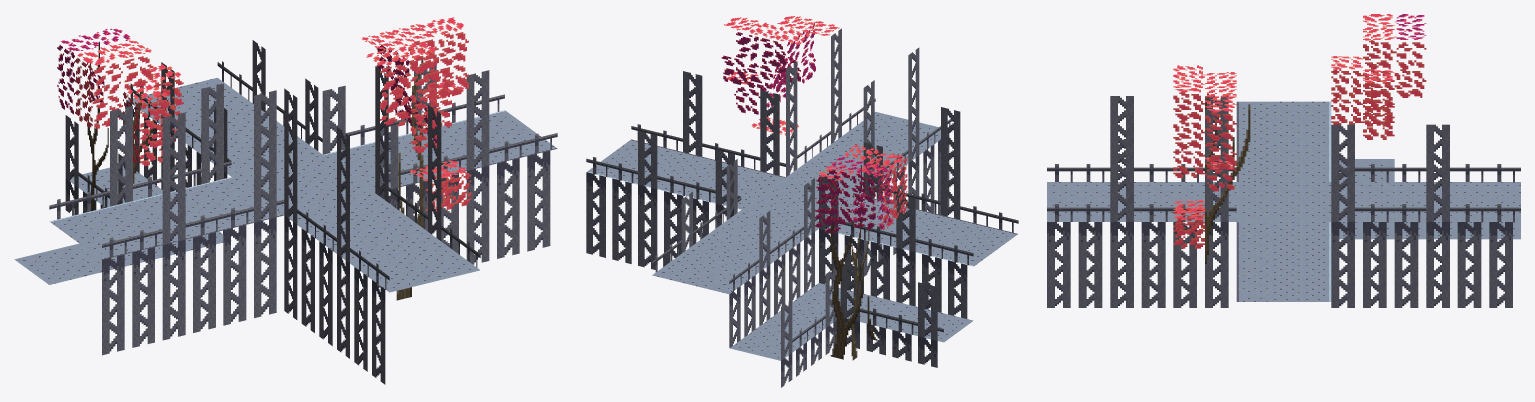
The model's file is nest_m1_crossroads_2.gltf.
3 views of the same model, side by side, from view 1: azimuth 30°, elevation 25°; view 2: azimuth 150°, elevation 25°; view 3: azimuth 270°, elevation 25° (orthographic). The views are drawn at different scales.
Parts seen in each view (by area): view 1: default; view 2: default; view 3: default.
Part boxes in pixels (x1=…): default: x1=14, y1=17, x2=557, y2=384; default: x1=586, y1=16, x2=1018, y2=387; default: x1=1047, y1=14, x2=1520, y2=307.
Bounding box in the file's own units: 15 × 8 × 15.
6 materials, 6 textured.
